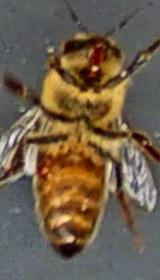varroa_mite: (26, 148, 60, 185)
